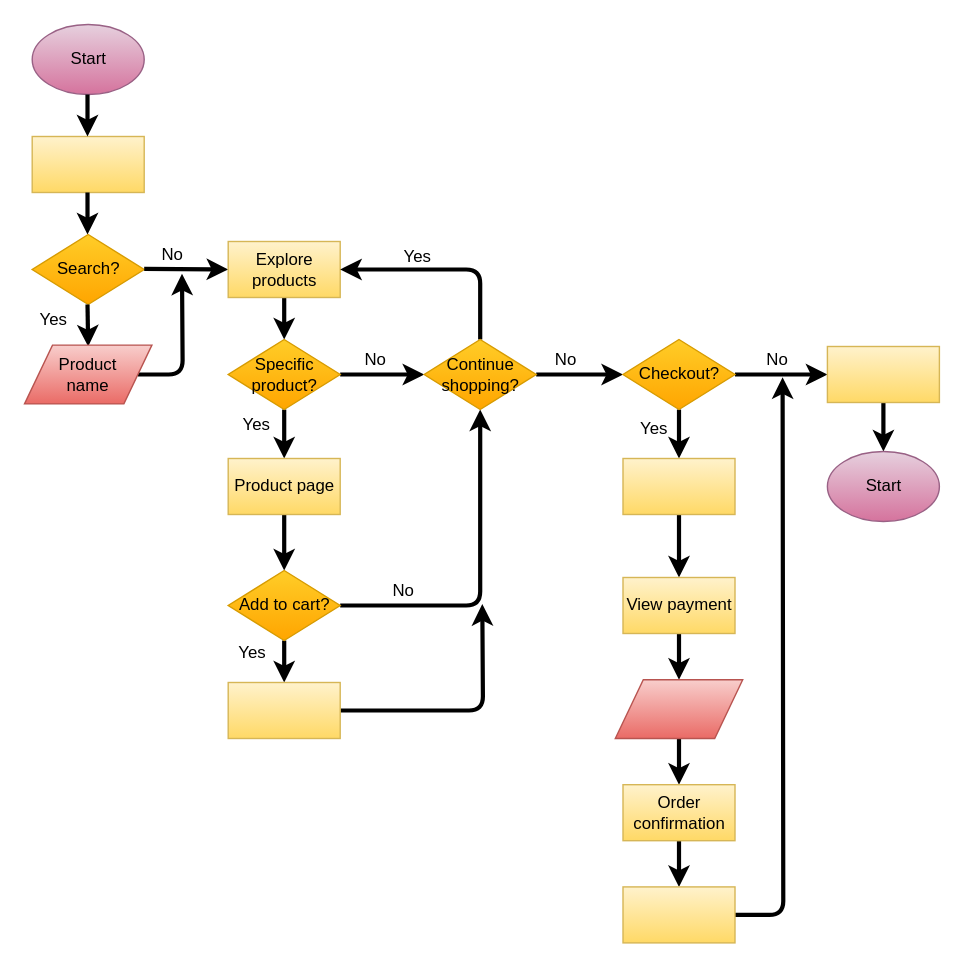
The diagram is 965 pixels wide and 967 high, and some of its shapes have lost their labels. The shapes that lost their labels are listed below. From the top down, each one's box as (x1, y1, x2, y2) in pixels, then its label:
(31, 135, 144, 192): User enters website
(826, 345, 939, 402): User leaves website
(622, 457, 735, 514): View cart
(227, 681, 340, 738): Added to cart notification
(614, 678, 743, 738): Payment information
(622, 886, 735, 943): Confirmation email
